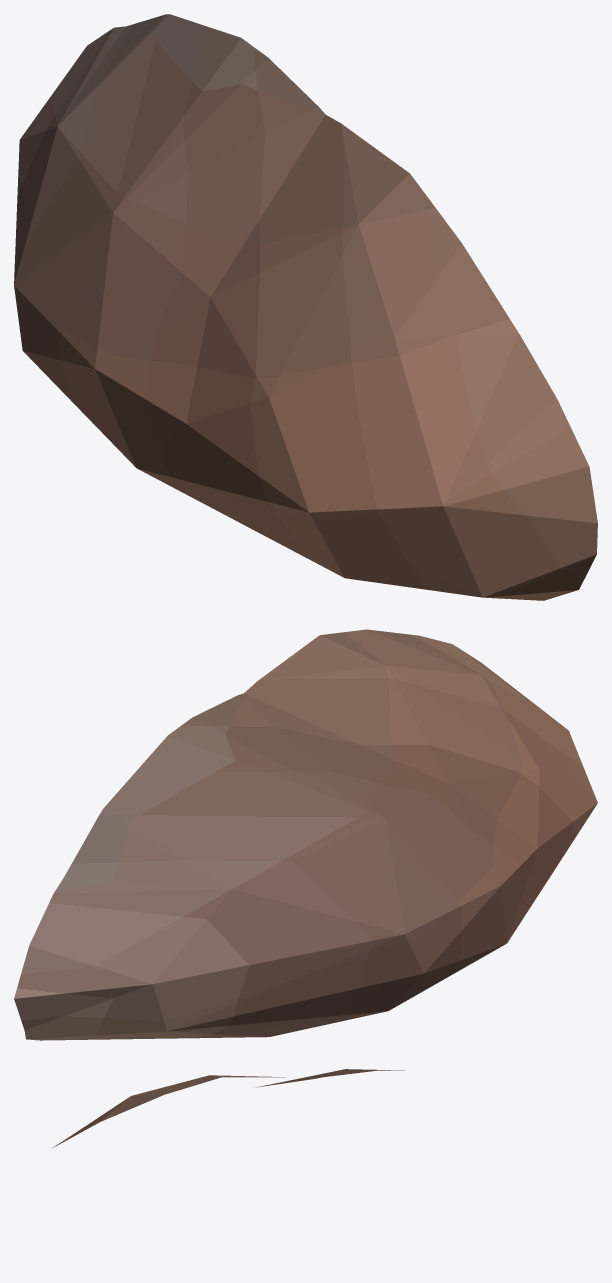
The picture shows the model from 3 angles, top to bottom: view 1: azimuth 30°, elevation 25°; view 2: azimuth 150°, elevation 25°; view 3: azimuth 270°, elevation 25°; orthographic projection. The views are drawn at different scales.
Size of the model in its own units: 5.05 by 6.7 by 17.88.
1 material, 1 textured.
